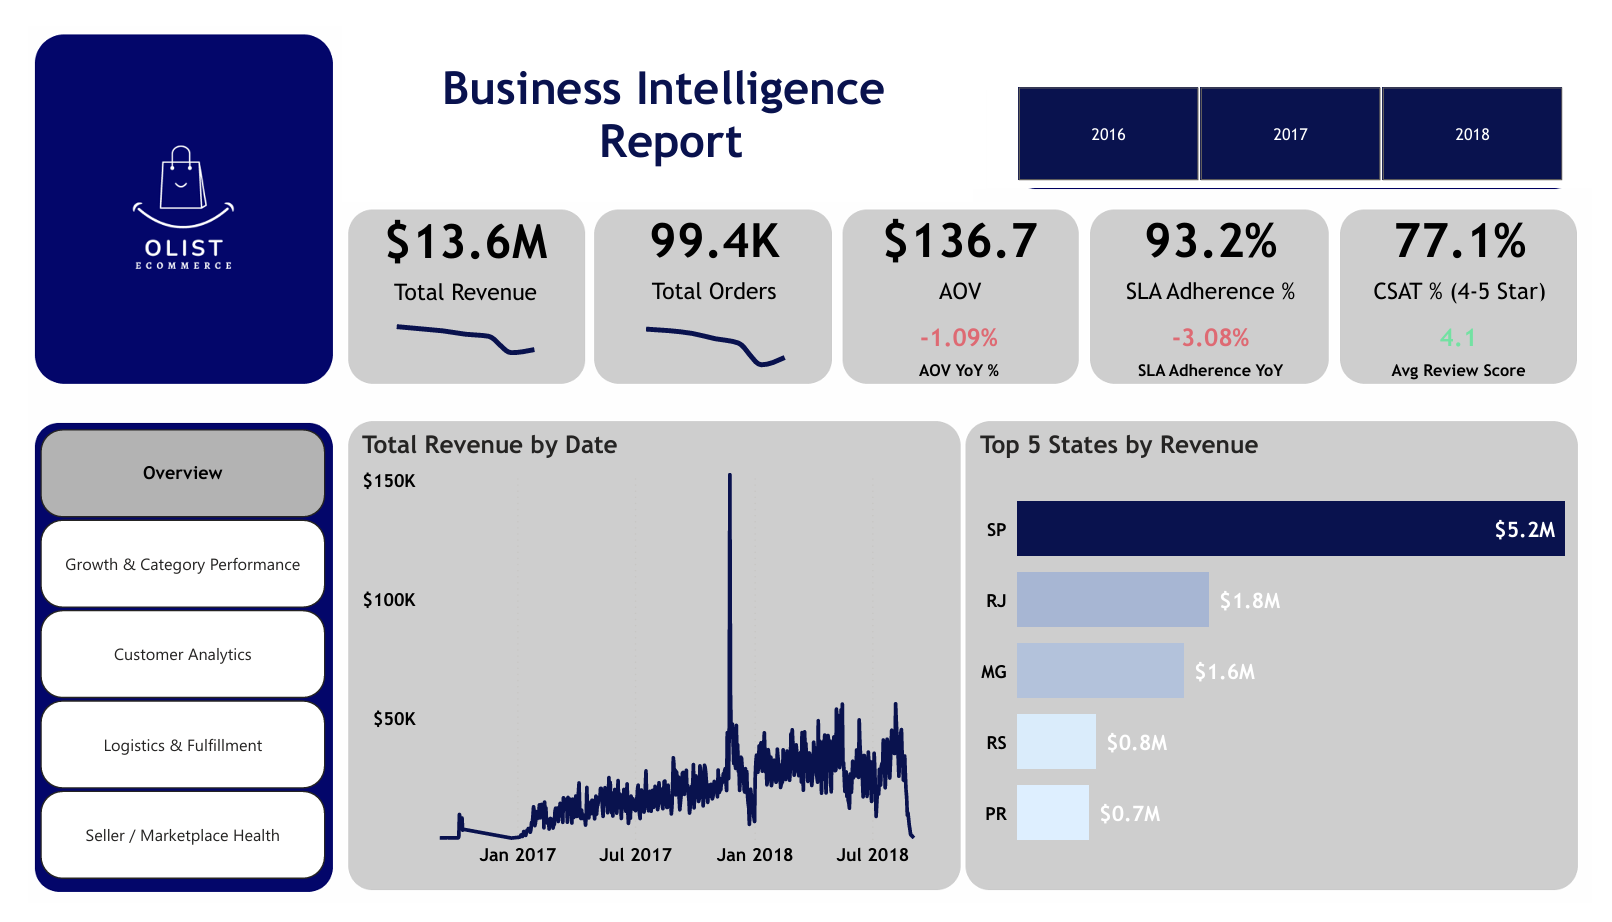

The dashboard page shown, as its layout file describes it:
{"tool":"powerbi","page":{"name":"Overview","canvas":[1280,720],"ordinal":0},"visuals":[{"type":"cardVisual","fields":{"Data":["_KPIs.Total Revenue"]},"box":[268,143,180,97],"z":0},{"type":"cardVisual","fields":{"Data":["_KPIs.Total Orders"]},"box":[470.5,143.2,181.6,95.8],"z":1000},{"type":"cardVisual","fields":{"Data":["_KPIs.Average Order Value"]},"box":[672.1,143.2,182.1,95.8],"z":2000},{"type":"cardVisual","fields":{"Data":["_SLA.SLA Adherence %"]},"box":[877.4,143.2,182.1,95.8],"z":3000},{"type":"cardVisual","fields":{"Data":["_Reviews / CSAT.CSAT % (4-5 Star)"]},"box":[1080.5,143.2,182.1,95.8],"z":4000},{"type":"cardVisual","fields":{"Data":["_SLA.SLA Adherence YoY (pts)"]},"box":[870.9,230.9,194.5,67.3],"z":5000},{"type":"lineChart","fields":{"Y":["_KPIs.Total Revenue"],"Category":["Date.Day Number (Mon=1)"]},"box":[268,224.1,180.2,63.6],"z":6000},{"type":"lineChart","fields":{"Category":["Date.Day Number (Mon=1)"],"Y":["_KPIs.Total Orders"]},"box":[472.4,224.1,180.2,63.6],"z":7000},{"type":"lineChart","fields":{"Y":["_KPIs.Total Revenue"],"Category":["Date.Date Hierarchy.Date"]},"box":[268,330.1,492.1,366.4],"z":8000},{"type":"barChart","title":"Top 5 States by Revenue","fields":{"Y":["_KPIs.Total Revenue"],"Category":["Customers (Final).customer_state"]},"box":[773.8,330.1,489.1,366.4],"z":9000},{"type":"cardVisual","fields":{"Data":["_Reviews / CSAT.Avg Review Score"]},"box":[1075.5,234.5,192.7,63.6],"z":10000},{"type":"cardVisual","fields":{"Data":["_Time Intels.AOV YoY %"]},"box":[665.5,230.9,194.5,67.3],"z":11000},{"type":"pageNavigator","box":[10,330,233.1,371.2],"z":12000},{"type":"shape","box":[257,13.2,515.9,130.4],"z":13000},{"type":"shape","box":[256.7,0,1023.3,51.7],"z":14000},{"type":"textbox","box":[268,24.2,516.3,109],"z":15000},{"type":"slicer","fields":{"Values":["Date.Year"]},"box":[785,43.3,495,90],"z":16000}]}

Visuals, with their boxes in screenshot pixels (x1, y1, x2, y2), scaled from the page's 1280x720 canvas onto the 1612x922 screenshot:
cardVisual - _KPIs.Total Revenue: pyautogui.locateOnScreen(338, 183, 564, 307)
cardVisual - _KPIs.Total Orders: pyautogui.locateOnScreen(593, 183, 821, 306)
cardVisual - _KPIs.Average Order Value: pyautogui.locateOnScreen(846, 183, 1076, 306)
cardVisual - _SLA.SLA Adherence %: pyautogui.locateOnScreen(1105, 183, 1334, 306)
cardVisual - _Reviews / CSAT.CSAT % (4-5 Star): pyautogui.locateOnScreen(1361, 183, 1590, 306)
cardVisual - _SLA.SLA Adherence YoY (pts): pyautogui.locateOnScreen(1097, 296, 1342, 382)
lineChart - _KPIs.Total Revenue x Date.Day Number (Mon=1): pyautogui.locateOnScreen(338, 287, 564, 368)
lineChart - Date.Day Number (Mon=1) x _KPIs.Total Orders: pyautogui.locateOnScreen(595, 287, 822, 368)
lineChart - _KPIs.Total Revenue x Date.Date Hierarchy.Date: pyautogui.locateOnScreen(338, 423, 957, 892)
"Top 5 States by Revenue" barChart: pyautogui.locateOnScreen(975, 423, 1590, 892)
cardVisual - _Reviews / CSAT.Avg Review Score: pyautogui.locateOnScreen(1354, 300, 1597, 382)
cardVisual - _Time Intels.AOV YoY %: pyautogui.locateOnScreen(838, 296, 1083, 382)
pageNavigator: pyautogui.locateOnScreen(13, 423, 306, 898)
shape: pyautogui.locateOnScreen(324, 17, 973, 184)
shape: pyautogui.locateOnScreen(323, 0, 1611, 66)
textbox: pyautogui.locateOnScreen(338, 31, 988, 171)
slicer - Date.Year: pyautogui.locateOnScreen(989, 55, 1611, 171)
